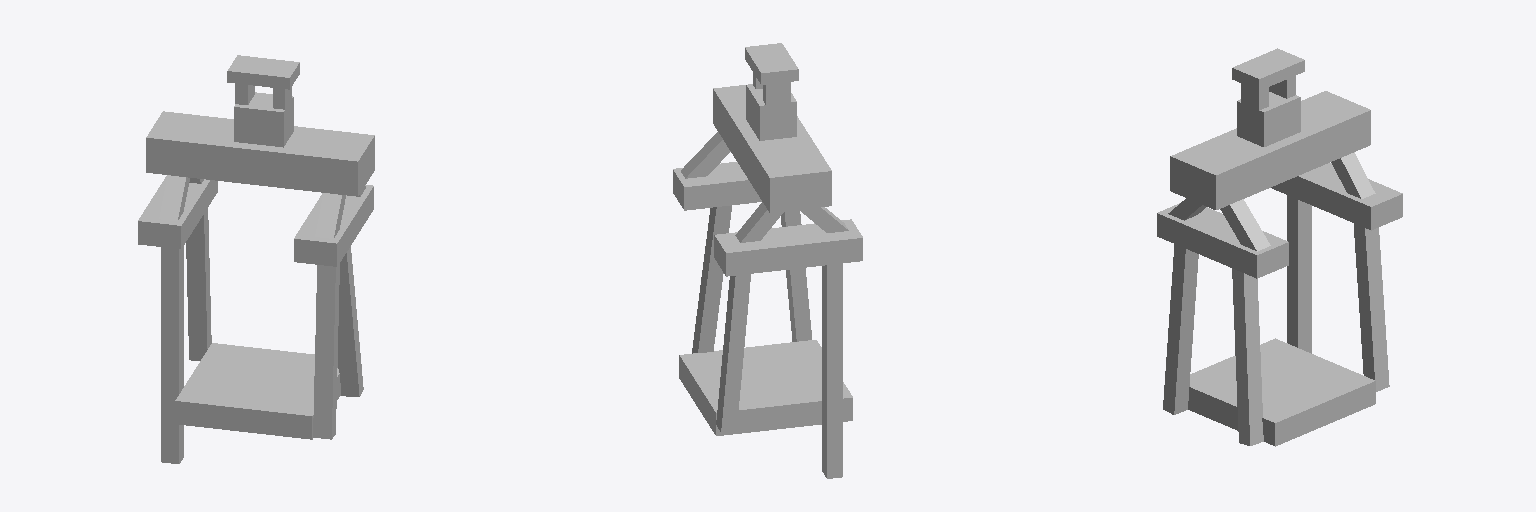
Rendered from goblin_zipline_seat.obj.
3 views of the same model, side by side, from view 1: azimuth 30°, elevation 25°; view 2: azimuth 150°, elevation 25°; view 3: azimuth 270°, elevation 25° (orthographic).
Visible parts, largest first — view 1: cube; view 2: cube; view 3: cube.
Boxes of the visible parts, x1,y1,x2,y2 form: cube: [138, 55, 374, 463]; cube: [673, 43, 862, 478]; cube: [1157, 48, 1402, 446].
Size of the model in its own units: 1.19 by 2.06 by 1.19.